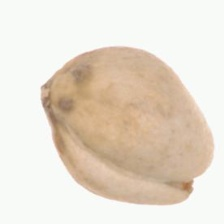L1: (165, 150, 215, 201), (40, 67, 59, 138)
L2: (40, 46, 217, 206)
